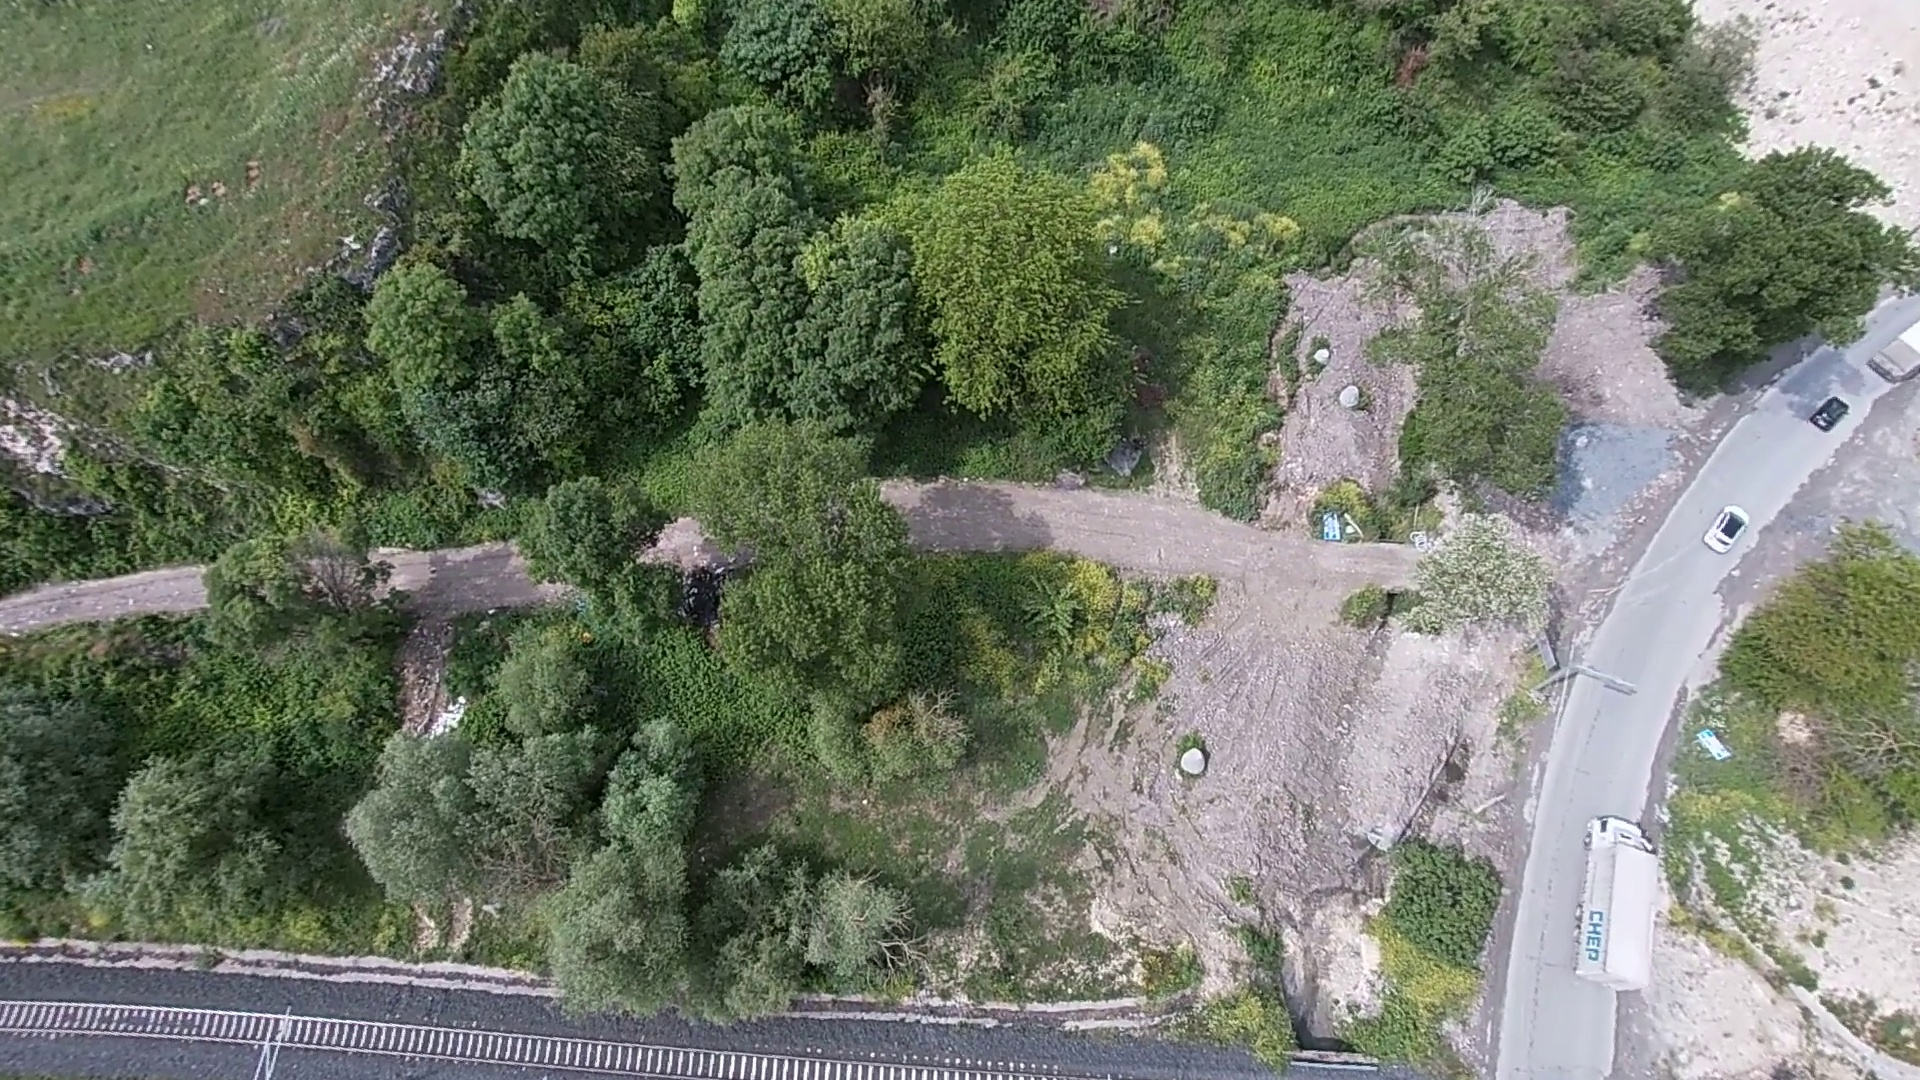araba: (1704, 505, 1754, 554), (1809, 394, 1858, 433)
kamyon: (1576, 807, 1664, 1002), (1867, 314, 1920, 386)
